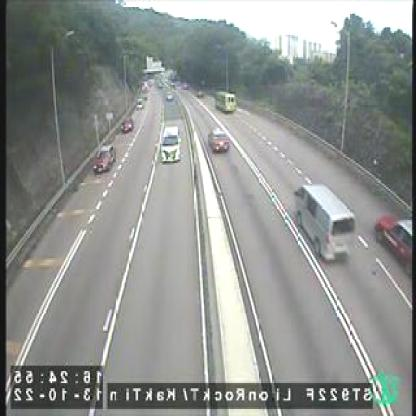Car: (293, 181, 357, 264), (374, 212, 414, 275), (92, 144, 115, 175), (208, 125, 228, 152), (120, 116, 133, 134), (134, 98, 145, 111), (164, 90, 175, 103)
Truck: (158, 125, 182, 165), (213, 89, 236, 114)
